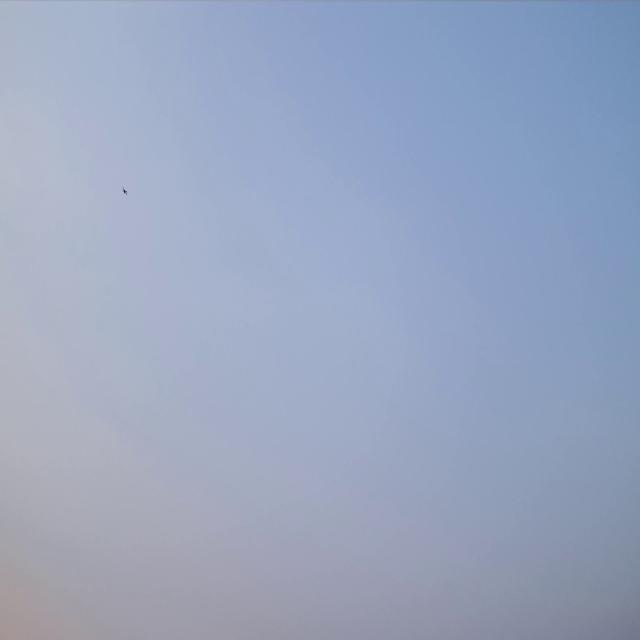UAV: (123, 188, 126, 193)
